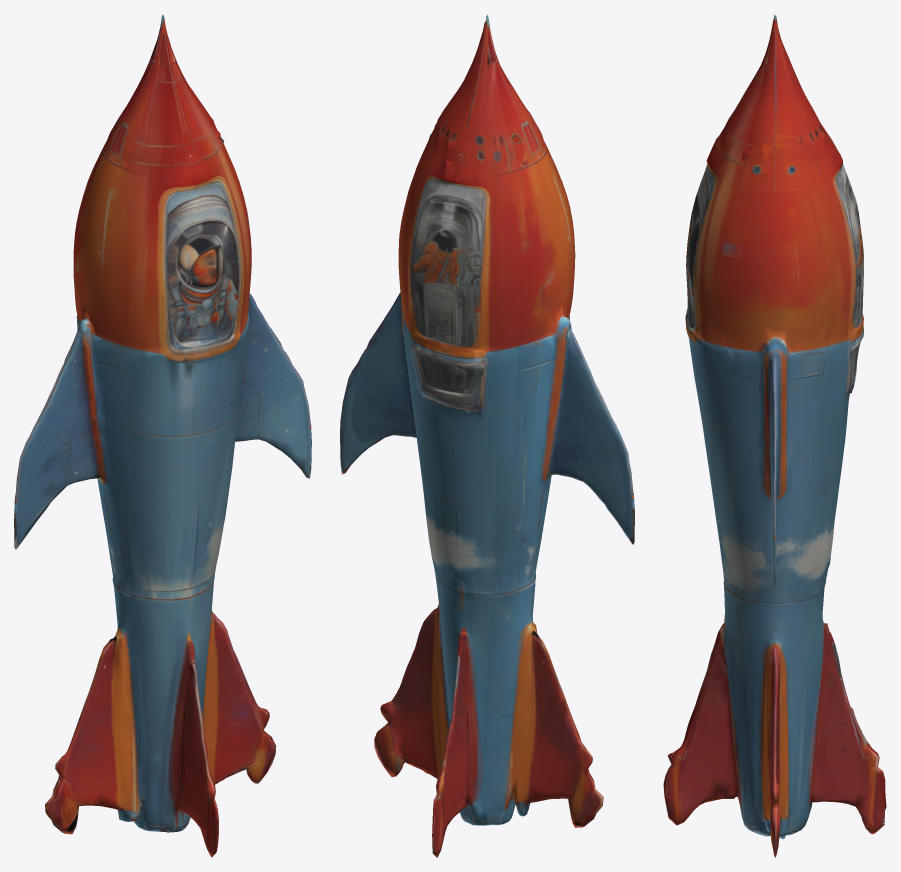
The model's file is Rocket_Dreams_0710234359_texture.glb.
The picture shows the model from 3 angles, left to right: view 1: azimuth 30°, elevation 25°; view 2: azimuth 150°, elevation 25°; view 3: azimuth 270°, elevation 25°; orthographic projection.
Visible parts, largest first — view 1: Mesh_0.048; view 2: Mesh_0.048; view 3: Mesh_0.048.
Boxes of the visible parts, <box> form: Mesh_0.048: <box>14,14,311,857</box>; Mesh_0.048: <box>340,14,634,857</box>; Mesh_0.048: <box>663,14,886,857</box>.
Bounding box in the file's own units: 75.42 × 198 × 48.73.
1 material, 1 textured.
